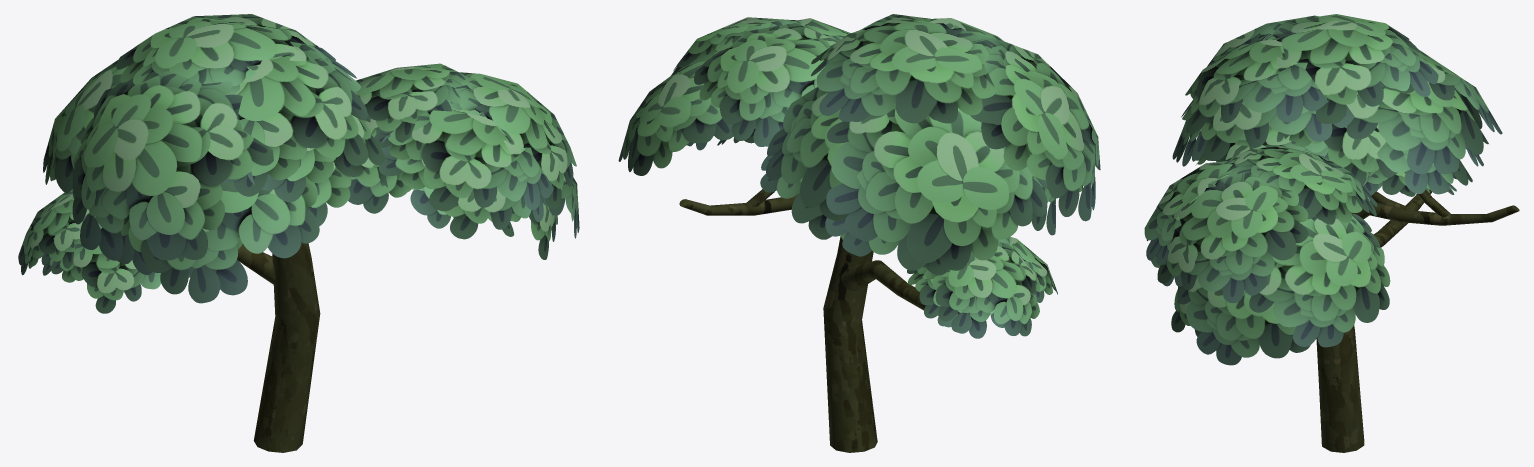
3 renders of one model, left to right at view 1: azimuth 30°, elevation 25°; view 2: azimuth 150°, elevation 25°; view 3: azimuth 270°, elevation 25°, orthographic. The views are drawn at different scales.
Visible parts, largest first — view 1: 629e78b439d8b314fb62411e16a47eeeaf0f6f78bb3f3150468167c9e9d3; view 2: 629e78b439d8b314fb62411e16a47eeeaf0f6f78bb3f3150468167c9e9d3; view 3: 629e78b439d8b314fb62411e16a47eeeaf0f6f78bb3f3150468167c9e9d3.
Boxes of the visible parts, left/top/right/bottom form: 629e78b439d8b314fb62411e16a47eeeaf0f6f78bb3f3150468167c9e9d3: left=18, top=14, right=579, bottom=452; 629e78b439d8b314fb62411e16a47eeeaf0f6f78bb3f3150468167c9e9d3: left=618, top=14, right=1100, bottom=452; 629e78b439d8b314fb62411e16a47eeeaf0f6f78bb3f3150468167c9e9d3: left=1144, top=14, right=1519, bottom=452.
Bounding box in the file's own units: 6.36 × 5.49 × 4.94.
Materials: 2 (2 with a texture image).
